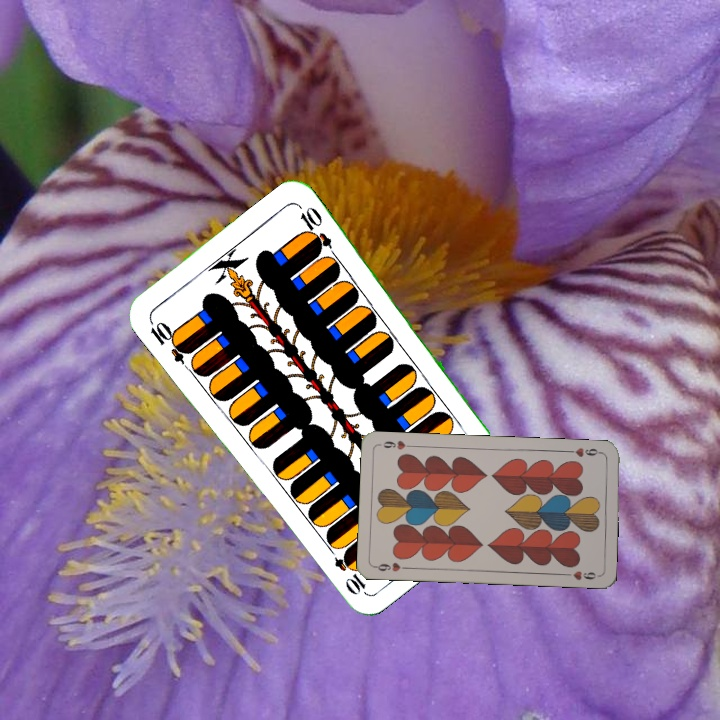E10: (145, 316, 193, 366)
H9: (371, 558, 412, 574), (564, 444, 605, 459)
